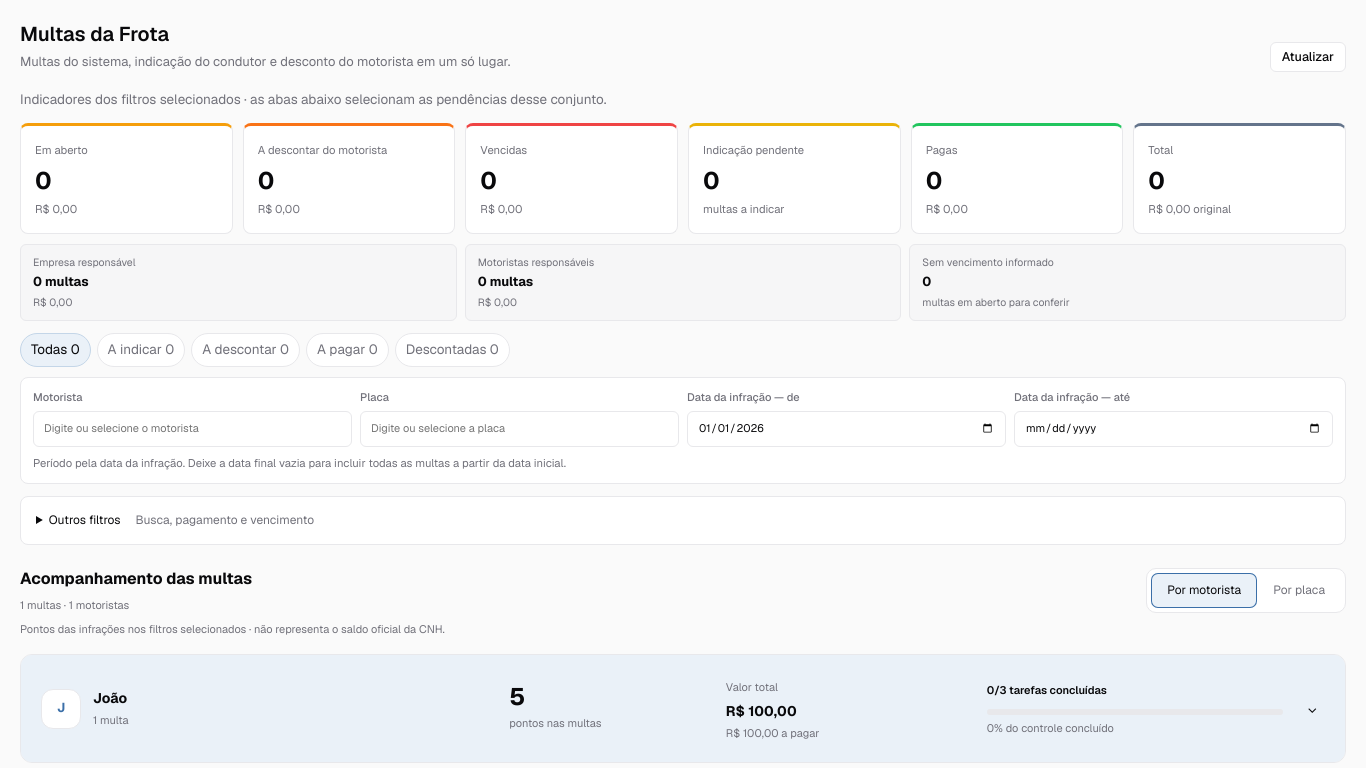
Test: shows authority, location and three independent completion indicators
Click the button "João" at [61, 709], box [21,655,1345,762]
(page scrolled)
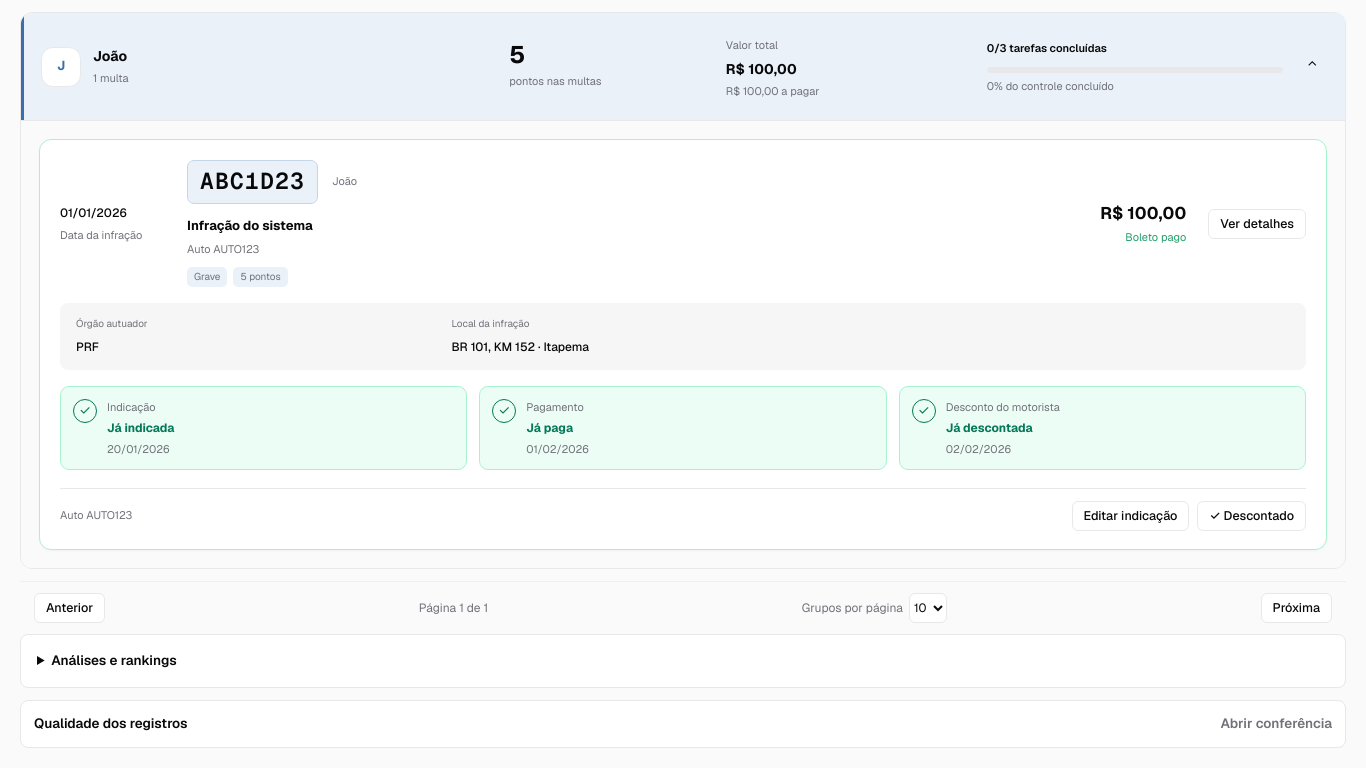
Check: the text "PRF" is shown, box [76,338,99,354]
Check: the text "BR 101, KM 152 · Itapema" is shown, box [451,338,589,354]
Check: the text "Já indicada" is shown, box [107,420,174,437]
